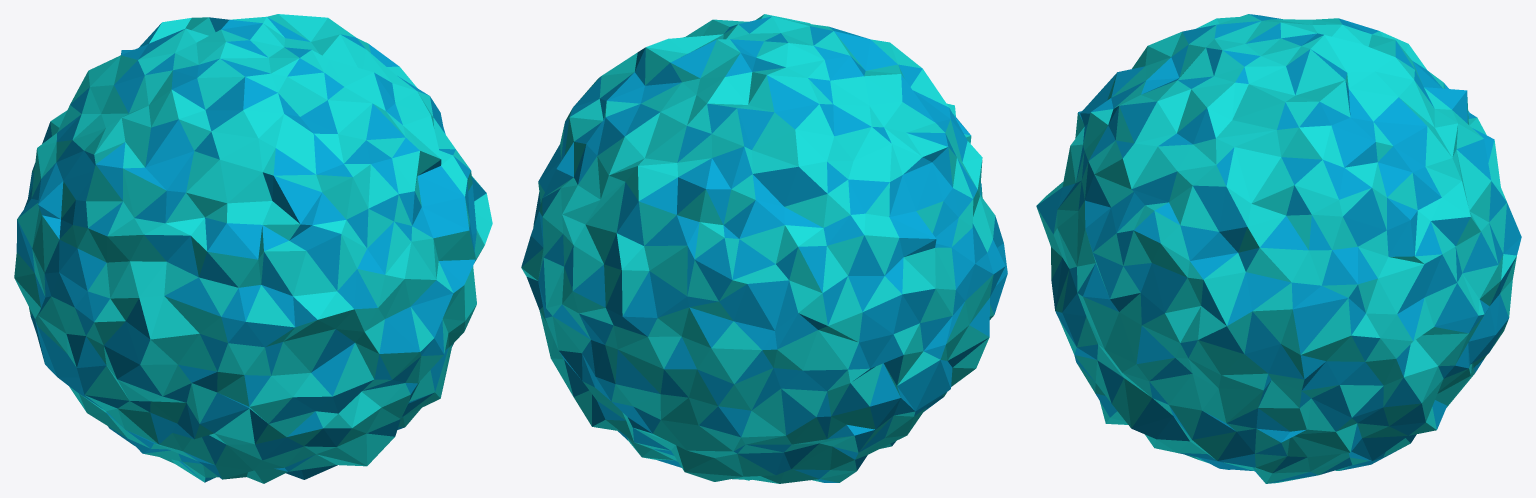
Rendered from Suns_Sun02.fbx.
3 views of the same model, side by side, from view 1: azimuth 30°, elevation 25°; view 2: azimuth 150°, elevation 25°; view 3: azimuth 270°, elevation 25° (orthographic).
Parts seen in each view (by area): view 1: Sun02; view 2: Sun02; view 3: Sun02.
Boxes of the visible parts, bbox=[...] form: Sun02: bbox=[14, 14, 492, 483]; Sun02: bbox=[521, 14, 1007, 483]; Sun02: bbox=[1036, 14, 1521, 483].
Bounding box in the file's own units: 20.69 × 20.58 × 21.12.
